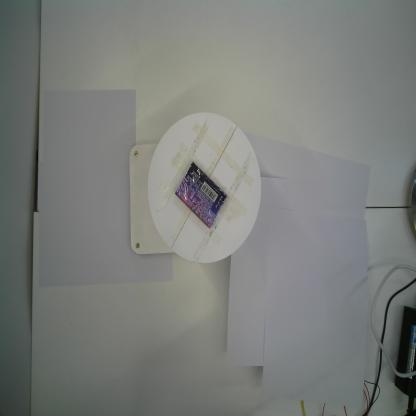Gum: (176, 161, 228, 229)
